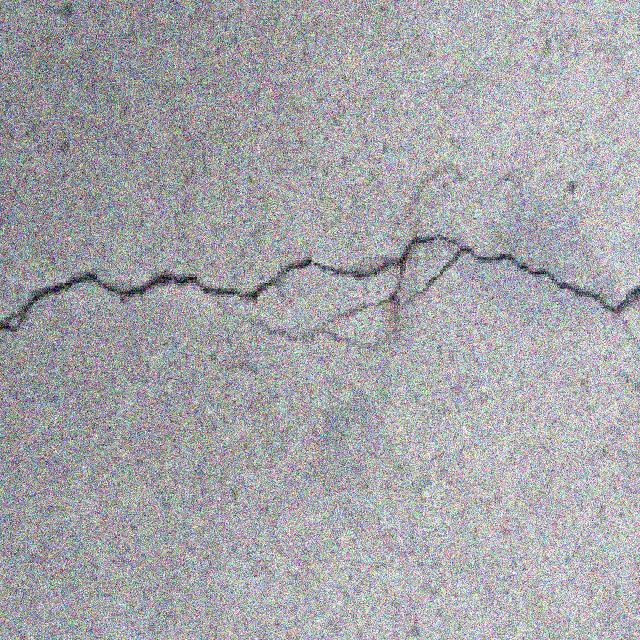SurfaceCrack: (0, 188, 640, 384)
